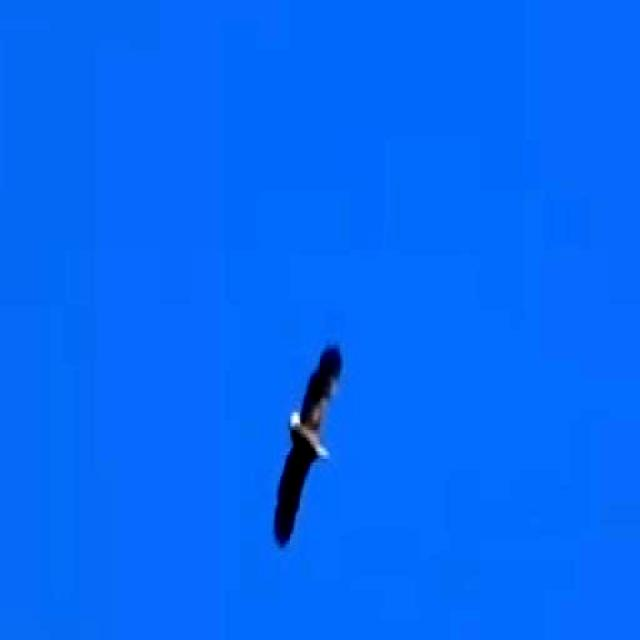airplane: (252, 306, 362, 556)
